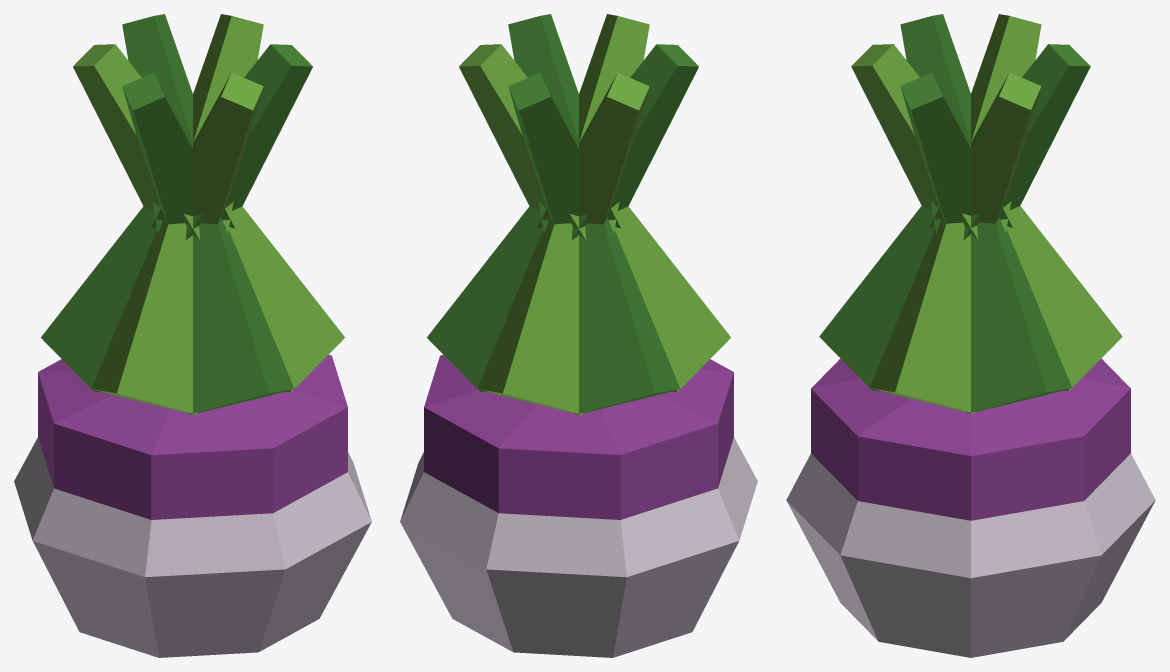
The model's file is turnip_2.glb.
The picture shows the model from 3 angles, left to right: view 1: azimuth 30°, elevation 25°; view 2: azimuth 150°, elevation 25°; view 3: azimuth 270°, elevation 25°; orthographic projection.
Visible parts, largest first — view 1: plant; view 2: plant; view 3: plant.
Boxes of the visible parts, x1,y1,x2,y2 form: plant: (14,14,371,657); plant: (400,14,757,657); plant: (786,14,1155,657).
Size of the model in its own units: 0.3 by 0.5386 by 0.3.
